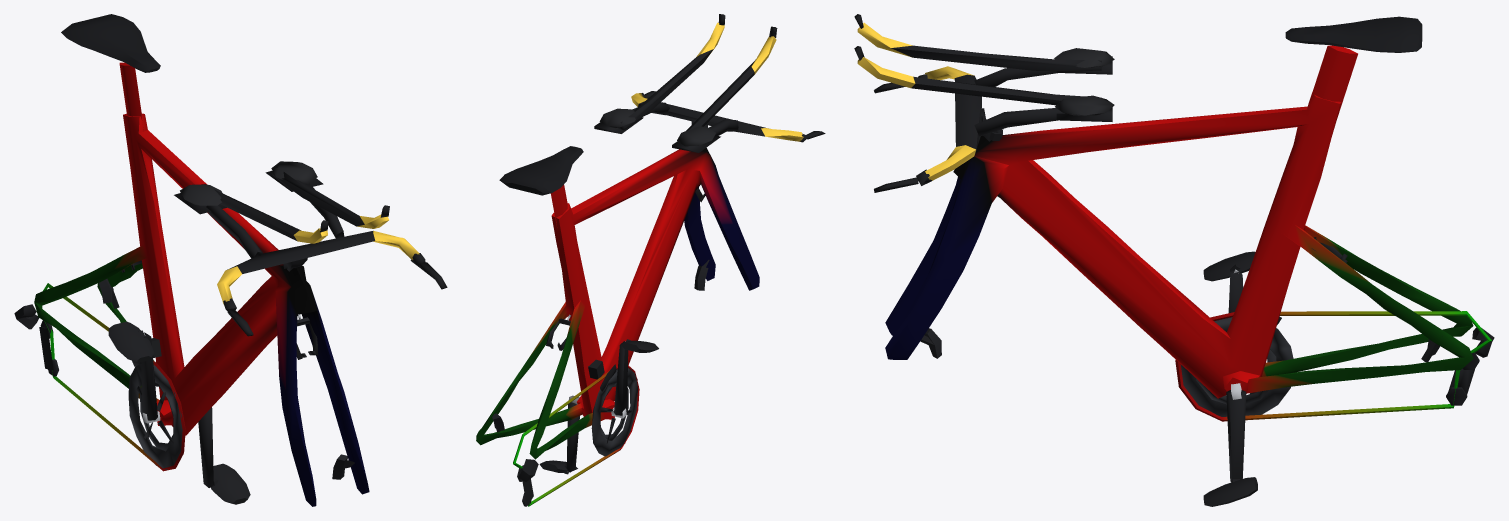
The picture shows the model from 3 angles, left to right: view 1: azimuth 30°, elevation 25°; view 2: azimuth 150°, elevation 25°; view 3: azimuth 270°, elevation 25°; orthographic projection. The views are drawn at different scales.
Visible parts, largest first — view 1: frame, cockpit, crankset, saddle, pedal_R, opt_derailleur, pedal_L, opt_brakes_disc; view 2: frame, cockpit, crankset, saddle, opt_derailleur, opt_brakes_disc; view 3: frame, cockpit, crankset, saddle, opt_derailleur, pedal_L, pedal_R.
Part boxes in pixels (left/top/right/bottom): frame: left=34, top=62, right=369, bottom=506; cockpit: left=174, top=161, right=447, bottom=336; crankset: left=128, top=332, right=213, bottom=487; saddle: left=61, top=14, right=160, bottom=72; pedal_R: left=108, top=321, right=154, bottom=362; opt_derailleur: left=14, top=304, right=161, bottom=376; pedal_L: left=211, top=463, right=250, bottom=504; opt_brakes_disc: left=98, top=278, right=354, bottom=479; frame: left=476, top=148, right=759, bottom=506; cockpit: left=594, top=14, right=825, bottom=152; crankset: left=566, top=341, right=637, bottom=472; saddle: left=499, top=146, right=583, bottom=195; opt_derailleur: left=517, top=359, right=616, bottom=506; opt_brakes_disc: left=492, top=260, right=709, bottom=432; frame: left=885, top=45, right=1491, bottom=421; cockpit: left=854, top=14, right=1114, bottom=192; crankset: left=1180, top=272, right=1293, bottom=481; saddle: left=1285, top=16, right=1422, bottom=52; opt_derailleur: left=1277, top=316, right=1494, bottom=405; pedal_L: left=1203, top=477, right=1257, bottom=506; pedal_R: left=1203, top=251, right=1255, bottom=281.
Size of the model in its own units: 0.4394 by 0.885 by 1.14.
